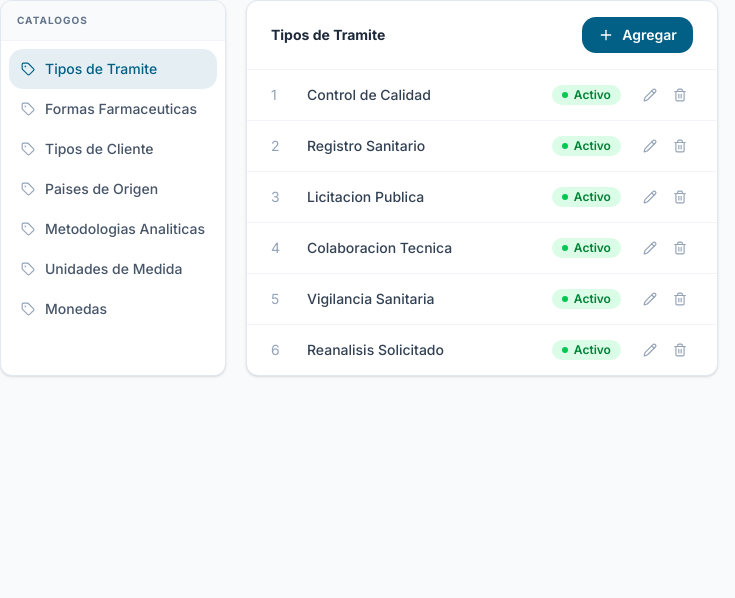
it: Navegación de catálogos › clicking Unidades de Medida shows Miligramos
What coordinates should you click on to do the following:
click the button "Unidades de Medida"
I would click on:
 (113, 269)
Its box is left=9, top=249, right=217, bottom=289.
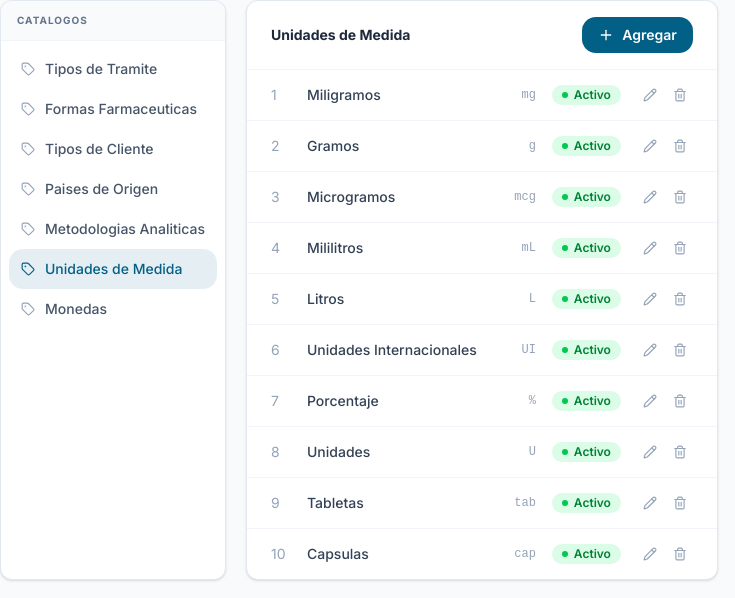
Now the text "Miligramos" is shown, box left=307, top=86, right=381, bottom=103
